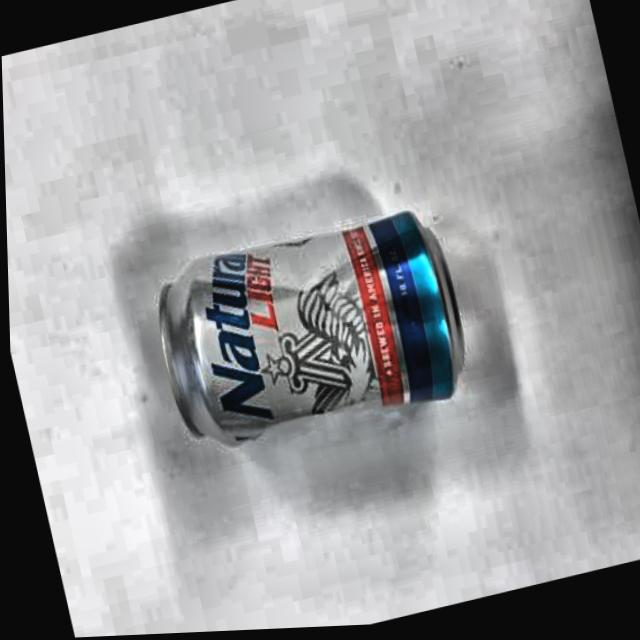Cans: (119, 190, 492, 482)
